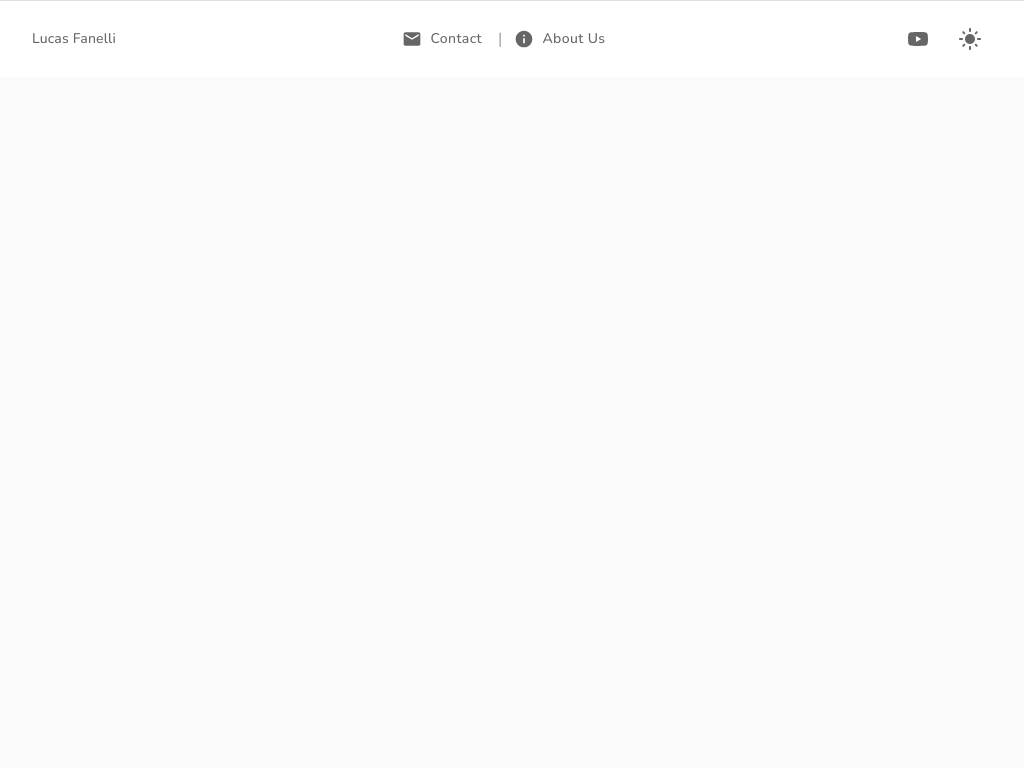
Scenario: Footer Component › Contact Dialog › should close dialog when X button is clicked
The width and height of the screenshot is (1024, 768).
Open dialog
Click the button "Contact".
click(444, 39)  # box top-left (398, 17), bottom-right (490, 61)
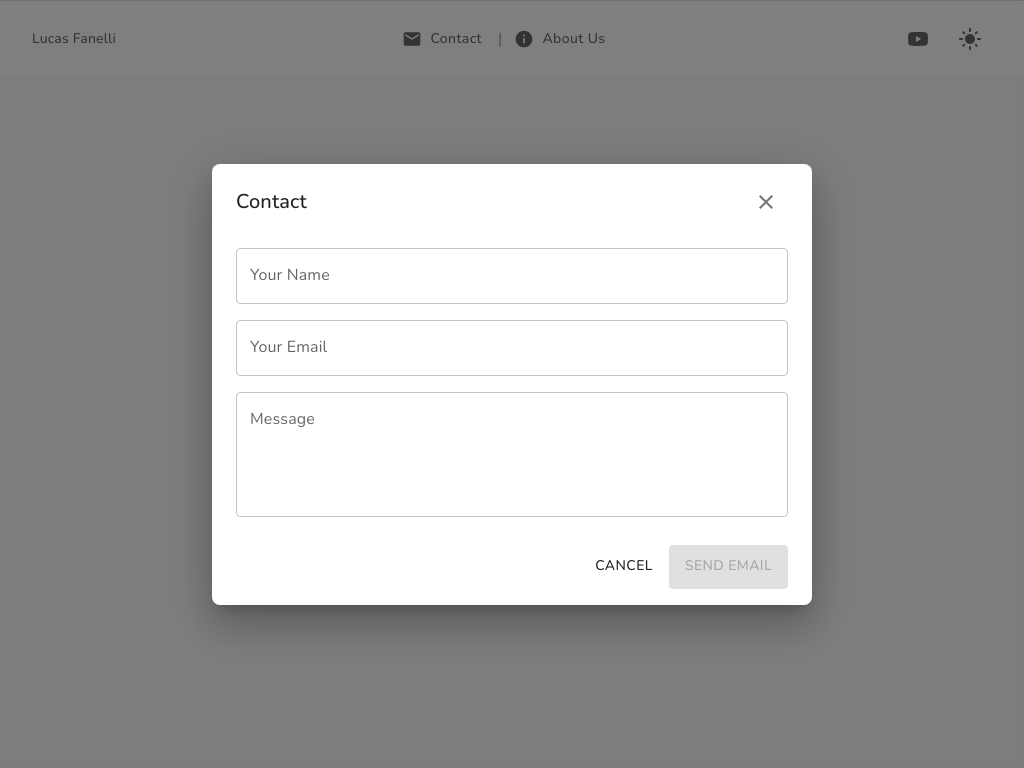
Expected: the dialog is shown, top-left (212, 164), bottom-right (812, 604)
Expected: the 1st button is shown
Click the 1st button.
click(766, 202)  # box top-left (744, 180), bottom-right (788, 224)
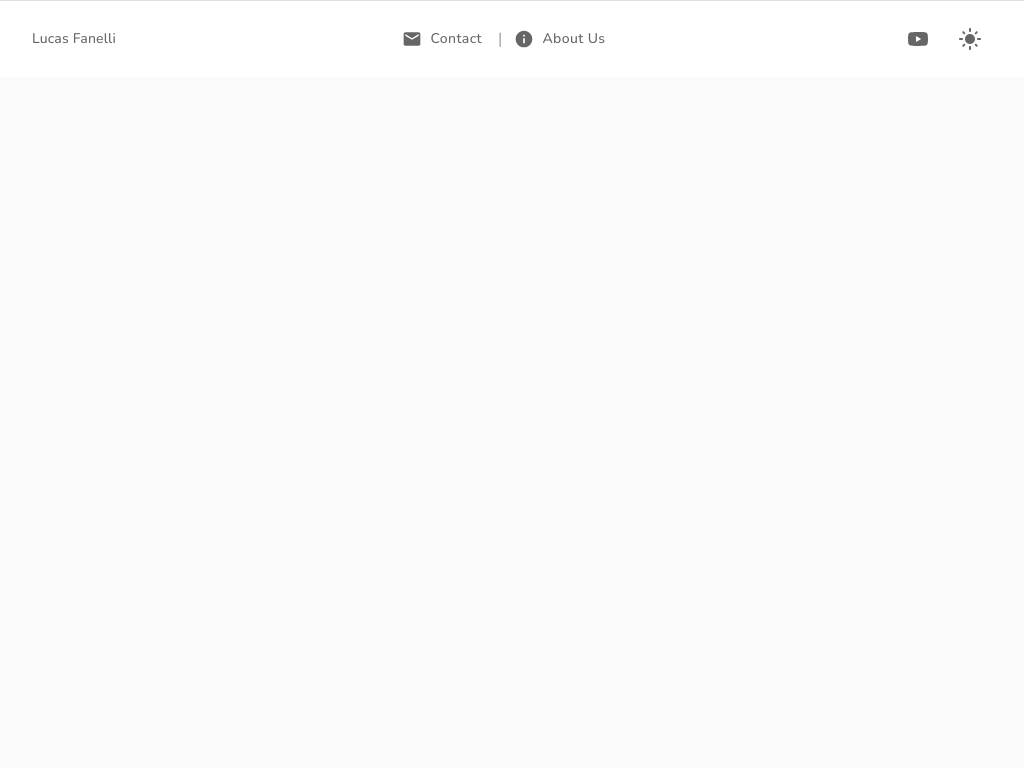
Expected: the dialog is gone
